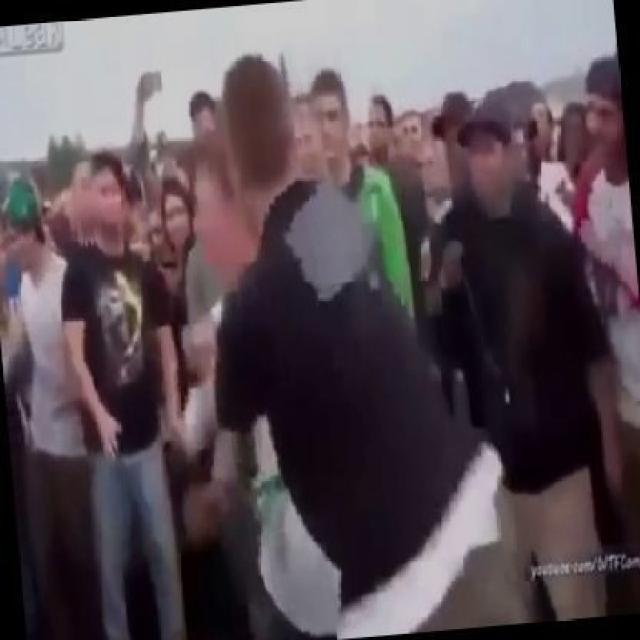fight: (121, 27, 506, 640)
non-fight: (425, 92, 613, 623), (56, 148, 189, 640), (0, 177, 89, 640)
